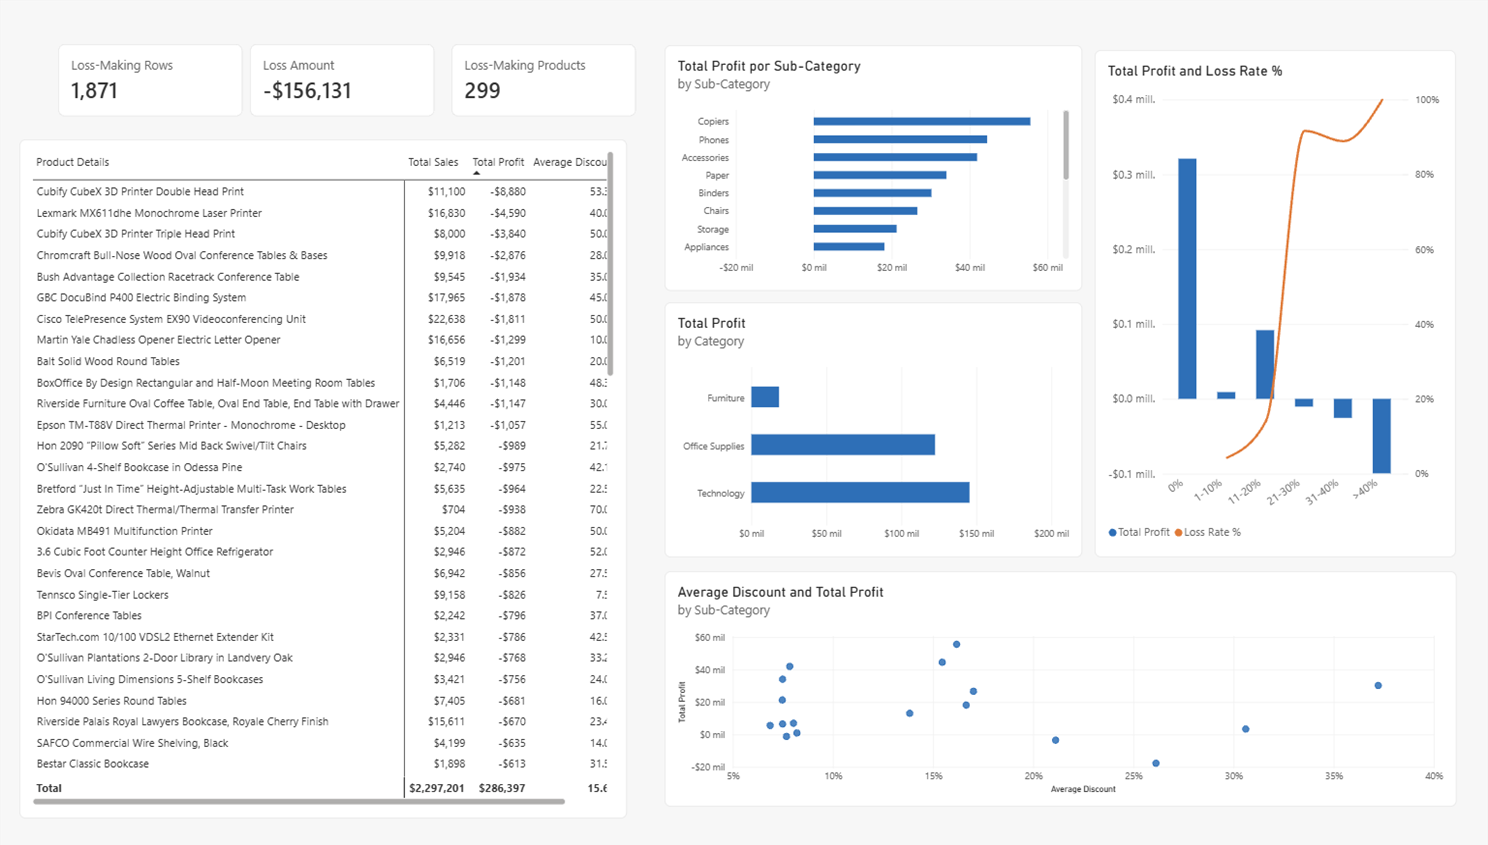

The dashboard page shown, as its layout file describes it:
{"tool":"powerbi","page":{"name":"Operational Drill-Down","canvas":[1920,1080],"ordinal":1},"visuals":[{"type":"clusteredBarChart","title":"Total Profit","fields":{"Category":["DimProduct.Product Hierarchy.Category","DimProduct.Product Hierarchy.Sub-Category","DimProduct.Product Hierarchy.Product"],"Y":["_Measures.Total Profit"]},"box":[857.3,384.8,539,324.7],"z":0},{"type":"clusteredBarChart","fields":{"Category":["DimProduct.Sub-Category"],"Y":["_Measures.Total Profit"]},"box":[857.3,57.5,539,313.2],"z":1},{"type":"pivotTable","fields":{"Rows":["DimProduct.Product Name"],"Values":["_Measures.Total Sales","_Measures.Total Profit","_Measures.Average Discount"]},"box":[25,177.5,784.2,865],"z":2},{"type":"scatterChart","title":"Average Discount and Total Profit","fields":{"Category":["DimProduct.Sub-Category"],"X":["_Measures.Average Discount"],"Y":["_Measures.Total Profit"]},"box":[857.3,727.5,1021.6,300.3],"z":3},{"type":"lineClusteredColumnComboChart","title":"Total Profit and Loss Rate %","fields":{"Category":["Sales.Discount Band"],"Y":["_Measures.Total Profit"],"Y2":["_Measures.Loss Rate %"]},"box":[1413,63.9,465.9,645.6],"z":4},{"type":"cardVisual","fields":{"Data":["_Measures.Loss-Making Rows"]},"box":[74.4,56.2,238.7,92.4],"z":5},{"type":"cardVisual","fields":{"Data":["_Measures.Loss Amount"]},"box":[322.1,56.2,238.7,92.4],"z":6},{"type":"cardVisual","fields":{"Data":["_Measures.Loss-Making Products"]},"box":[582.7,56.2,238.7,92.4],"z":7}]}

Visuals, with their boxes in screenshot pixels (x1, y1, x2, y2), scaled from the page's 1920x1080 canvas onto the 1488x845 screenshot:
"Total Profit" clusteredBarChart: [left=664, top=301, right=1082, bottom=555]
clusteredBarChart - DimProduct.Sub-Category x _Measures.Total Profit: [left=664, top=45, right=1082, bottom=290]
pivotTable - DimProduct.Product Name x _Measures.Total Sales: [left=19, top=139, right=627, bottom=816]
"Average Discount and Total Profit" scatterChart: [left=664, top=569, right=1456, bottom=804]
"Total Profit and Loss Rate %" lineClusteredColumnComboChart: [left=1095, top=50, right=1456, bottom=555]
cardVisual - _Measures.Loss-Making Rows: [left=58, top=44, right=243, bottom=116]
cardVisual - _Measures.Loss Amount: [left=250, top=44, right=435, bottom=116]
cardVisual - _Measures.Loss-Making Products: [left=452, top=44, right=637, bottom=116]
